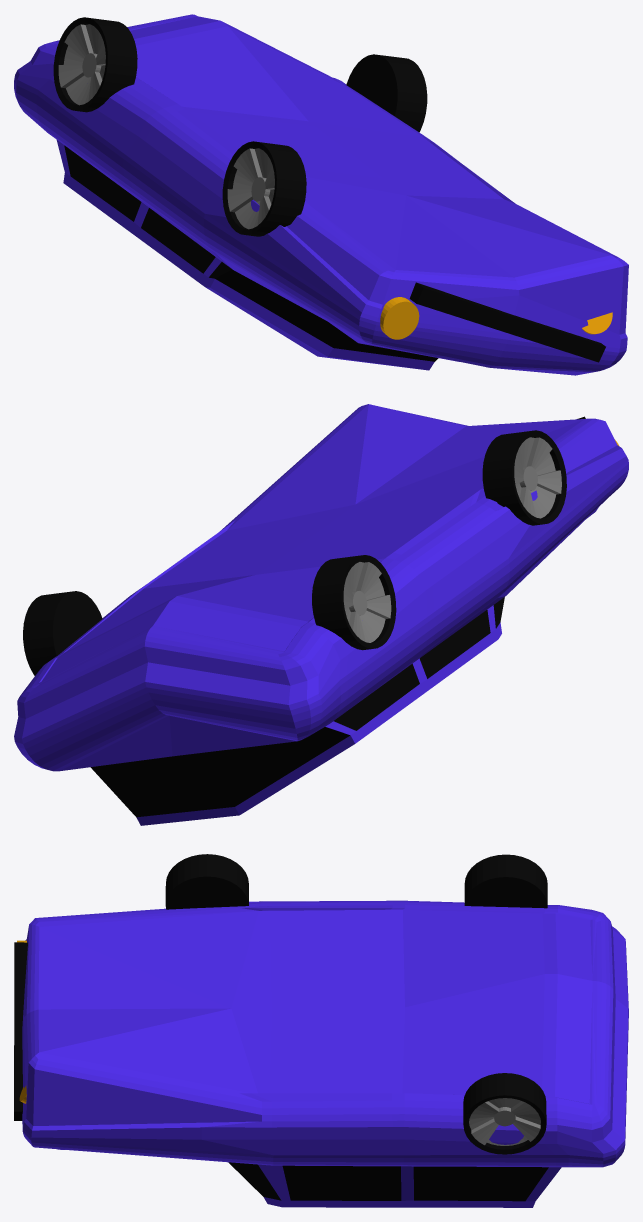
File: wreckedcar.fbx
The picture shows the model from 3 angles, top to bottom: view 1: azimuth 30°, elevation 25°; view 2: azimuth 150°, elevation 25°; view 3: azimuth 270°, elevation 25°; orthographic projection. The views are drawn at different scales.
Parts seen in each view (by area): view 1: Sphere.001, wheel.004, wheel.007, Cube.001, wheel.006, Cylinder.002; view 2: Sphere.001, wheel.007, wheel.004, wheel.006; view 3: Sphere.001, wheel.006, wheel.004, wheel.007, Cube.001.
Part boxes in pixels (bbox=[...]): Sphere.001: bbox=[14, 14, 628, 375]; wheel.004: bbox=[222, 141, 306, 236]; wheel.007: bbox=[53, 17, 137, 112]; Cube.001: bbox=[409, 282, 605, 362]; wheel.006: bbox=[346, 54, 427, 132]; Cylinder.002: bbox=[380, 297, 419, 339]; Sphere.001: bbox=[14, 404, 628, 825]; wheel.007: bbox=[312, 555, 396, 650]; wheel.004: bbox=[482, 430, 566, 525]; wheel.006: bbox=[23, 591, 102, 675]; Sphere.001: bbox=[22, 900, 628, 1207]; wheel.006: bbox=[463, 1073, 546, 1154]; wheel.004: bbox=[165, 854, 248, 909]; wheel.007: bbox=[464, 854, 547, 908]; Cube.001: bbox=[14, 942, 27, 1120].
Bounding box in the file's own units: 438 × 368 × 765.
